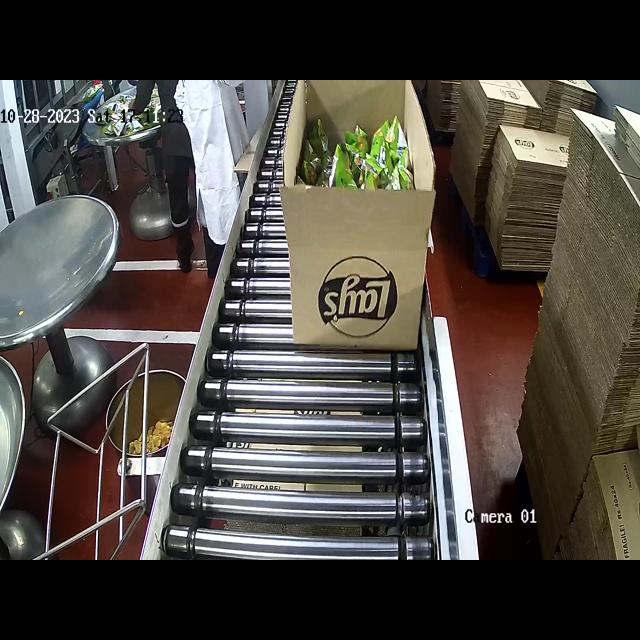yogurt: (313, 115, 418, 200)
